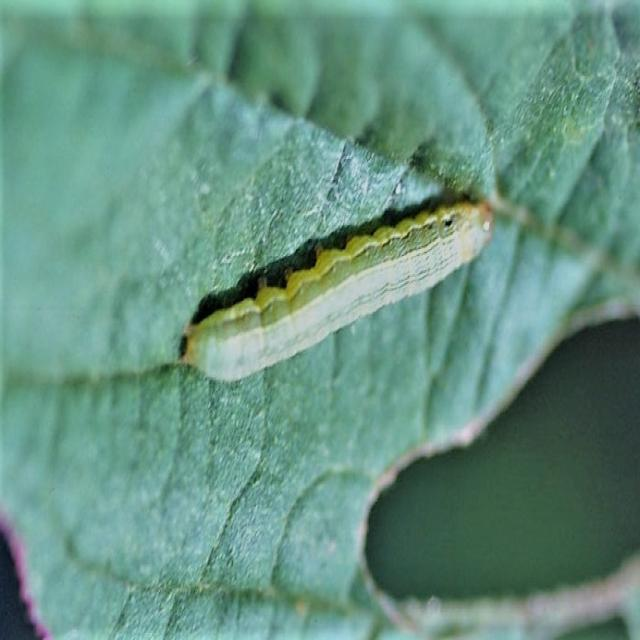armyworm: (176, 188, 494, 382)
